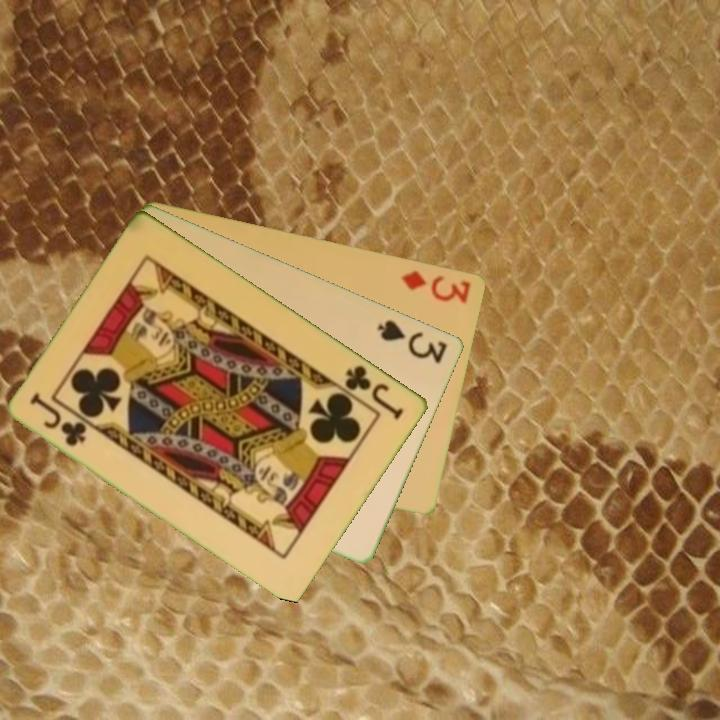3d: (398, 266, 474, 306)
3s: (374, 316, 451, 366)
Jc: (341, 361, 408, 423), (27, 390, 91, 450)
